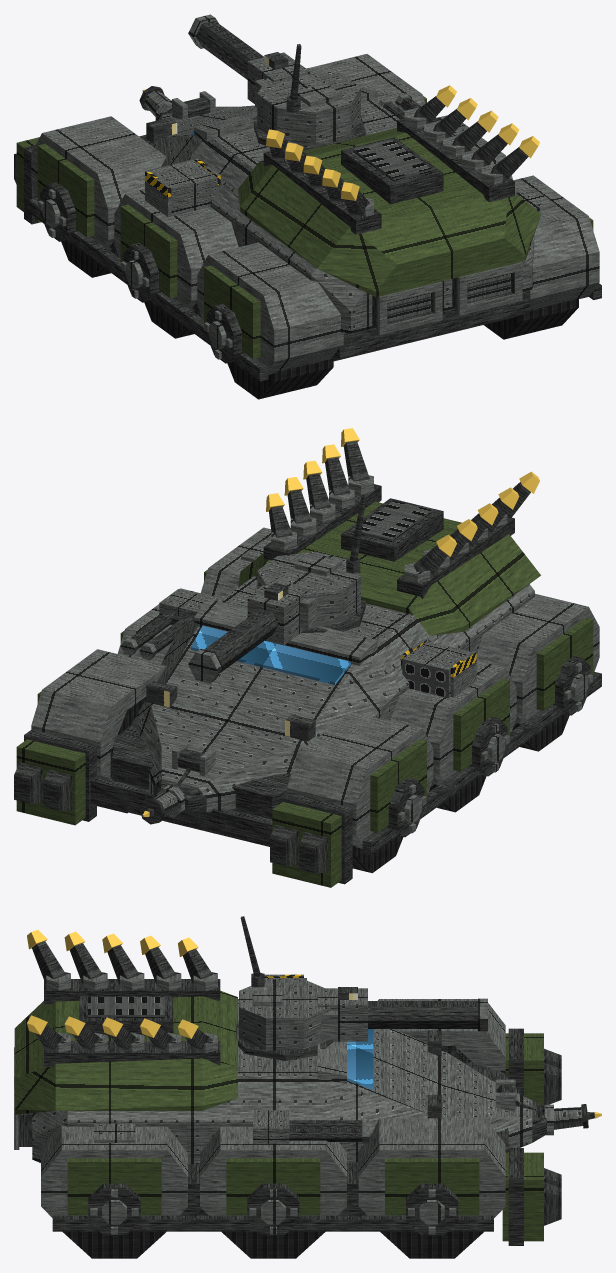
Rendered from echidna.glb.
3 renders of one model, top to bottom at view 1: azimuth 30°, elevation 25°; view 2: azimuth 150°, elevation 25°; view 3: azimuth 270°, elevation 25°, orthographic. The views are drawn at different scales.
Parts seen in each view (by area): view 1: engine_cover, hull, housing.002, housing, housing.005, turret, housing.001, belly, sill, emitter_driver, housing_plate.001, housing_plate (+28 smaller); view 2: hull, engine_cover, prow, housing, housing.003, housing.002, housing.001, bumper, turret, belly, brow, ram (+39 smaller); view 3: hull, engine_cover, housing.003, housing.005, housing.004, sill.001, turret, prow, housing_plate.004, housing_plate.005, housing_plate.003, barrel (+40 smaller).
Boxes of the visible parts, <box> form: engine_cover: <box>238,128,540,297</box>; hull: <box>148,99,534,333</box>; housing.002: <box>197,242,343,374</box>; housing: <box>31,116,166,250</box>; housing.005: <box>513,175,599,309</box>; turret: <box>257,69,360,145</box>; housing.001: <box>114,189,238,311</box>; belly: <box>139,135,531,361</box>; sill: <box>29,198,268,381</box>; emitter_driver: <box>341,137,443,204</box>; housing_plate.001: <box>120,204,177,297</box>; housing_plate: <box>37,144,94,237</box>; hull: <box>133,576,534,747</box>; engine_cover: <box>238,501,540,635</box>; prow: <box>131,706,303,812</box>; housing: <box>287,711,433,848</box>; housing.003: <box>31,649,166,778</box>; housing.002: <box>476,593,599,724</box>; housing.001: <box>390,660,516,785</box>; bumper: <box>90,775,272,846</box>; turret: <box>257,551,360,628</box>; belly: <box>112,725,291,818</box>; brow: <box>194,598,377,665</box>; ram: <box>272,802,341,887</box>; hull: <box>32,1000,443,1164</box>; engine_cover: <box>14,990,237,1114</box>; housing.003: <box>358,1118,505,1217</box>; housing.005: <box>41,1125,187,1217</box>; housing.004: <box>200,1127,346,1215</box>; sill.001: <box>52,1215,493,1231</box>; turret: <box>239,979,330,1050</box>; prow: <box>444,1051,532,1147</box>; housing_plate.004: <box>226,1158,320,1215</box>; housing_plate.005: <box>67,1158,161,1215</box>; housing_plate.003: <box>385,1158,479,1215</box>; barrel: <box>368,1001,477,1028</box>.
Bounding box in the file's own units: 68.8 × 48.02 × 99.96.
12 materials, 12 textured.
